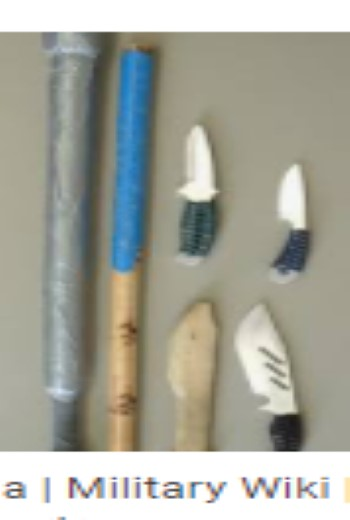baston_e: (31, 61, 100, 396), (109, 62, 141, 441)
baston_v: (112, 22, 159, 78), (37, 433, 94, 477), (99, 431, 145, 469)
